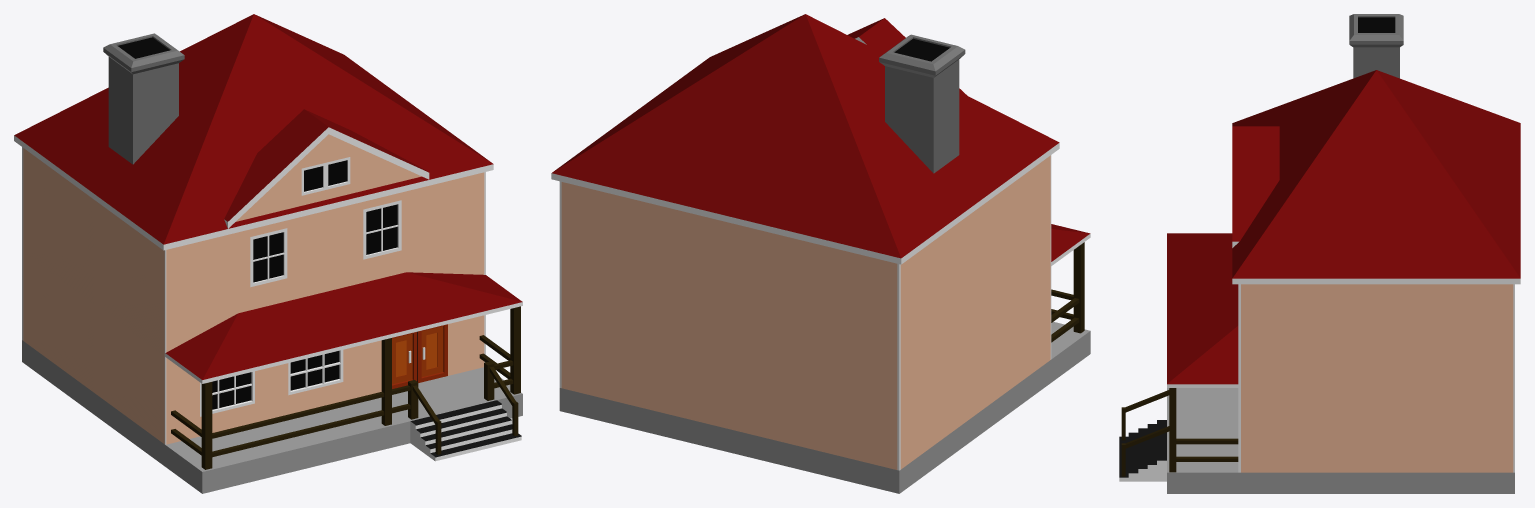
The model's file is House-07.fbx.
The picture shows the model from 3 angles, left to right: view 1: azimuth 30°, elevation 25°; view 2: azimuth 150°, elevation 25°; view 3: azimuth 270°, elevation 25°; orthographic projection. The views are drawn at different scales.
Visible parts, largest first — view 1: Cube; view 2: Cube; view 3: Cube.
Boxes of the visible parts, <box> form: Cube: <box>14,14,522,493</box>; Cube: <box>551,14,1090,493</box>; Cube: <box>1119,14,1520,493</box>.
Size of what is drawn, in the model's own units: 15.72 by 16.44 by 17.17.
